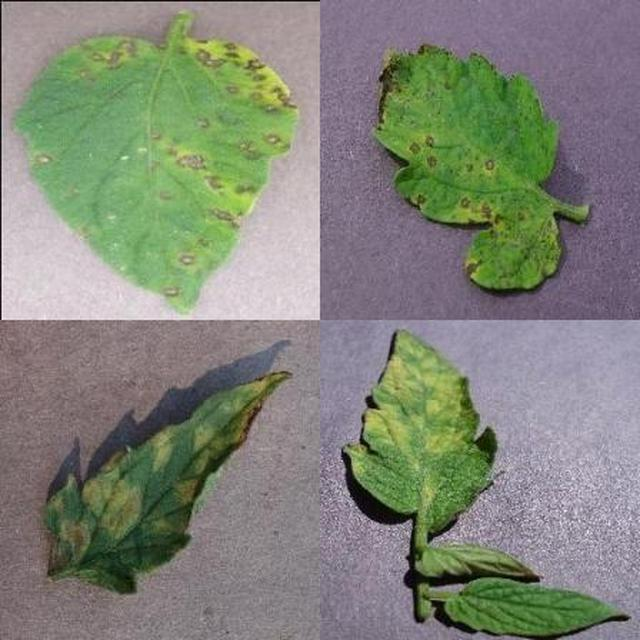Septoria Leaf: (221, 88, 640, 640)
